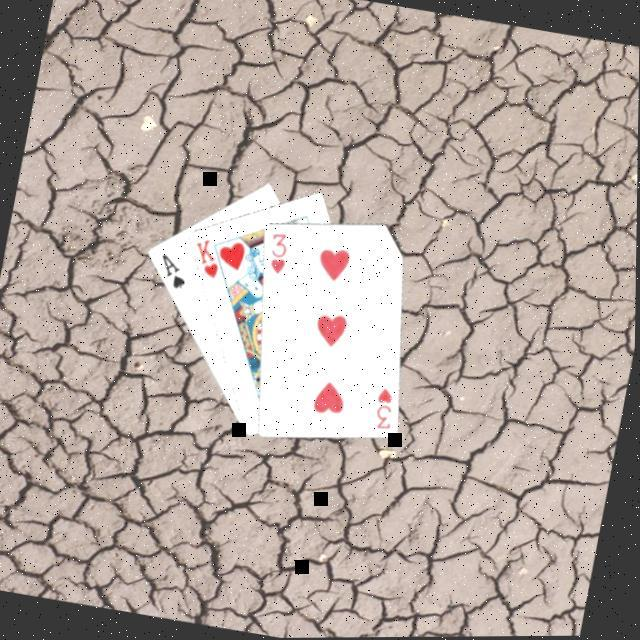3H: (369, 383, 402, 433), (263, 227, 296, 276)
AS: (154, 249, 194, 292)
KH: (187, 232, 228, 281)
